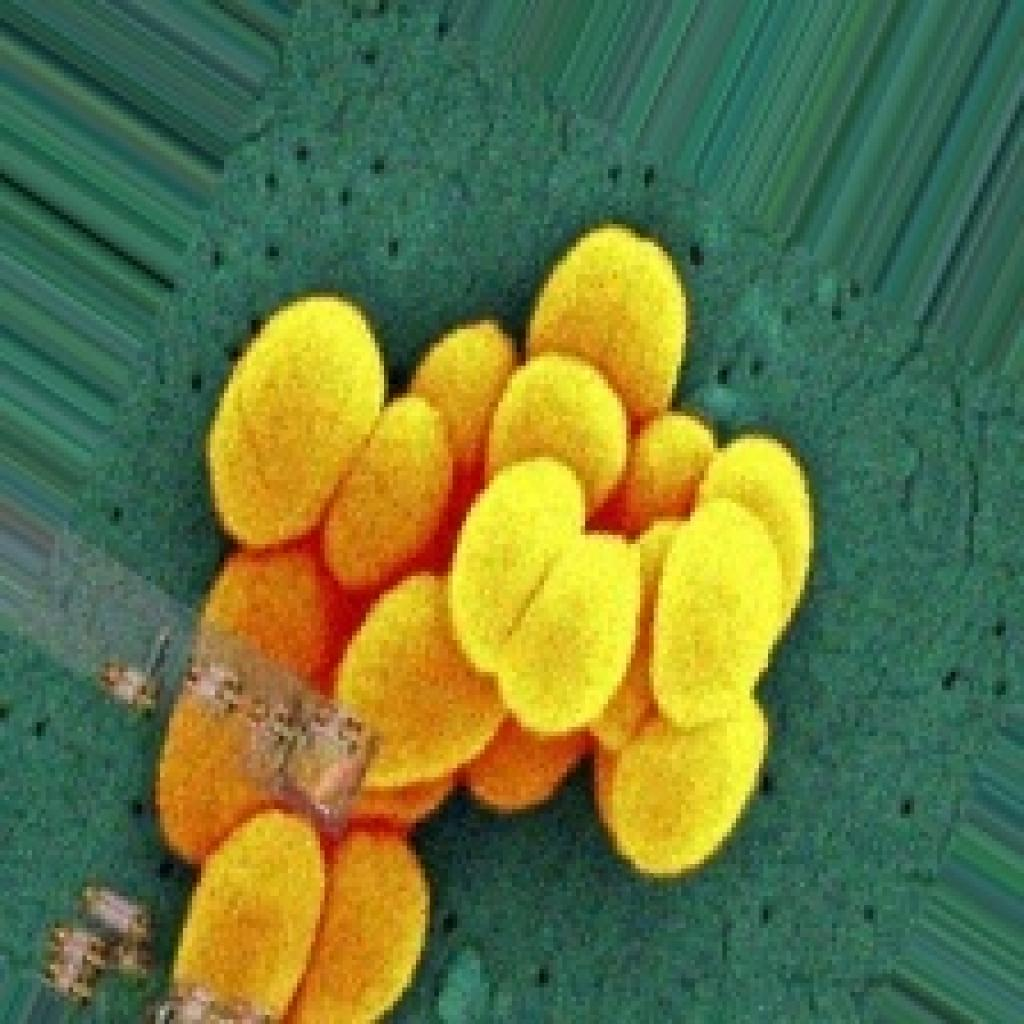Sphericalbacteria: (137, 215, 818, 1019)
